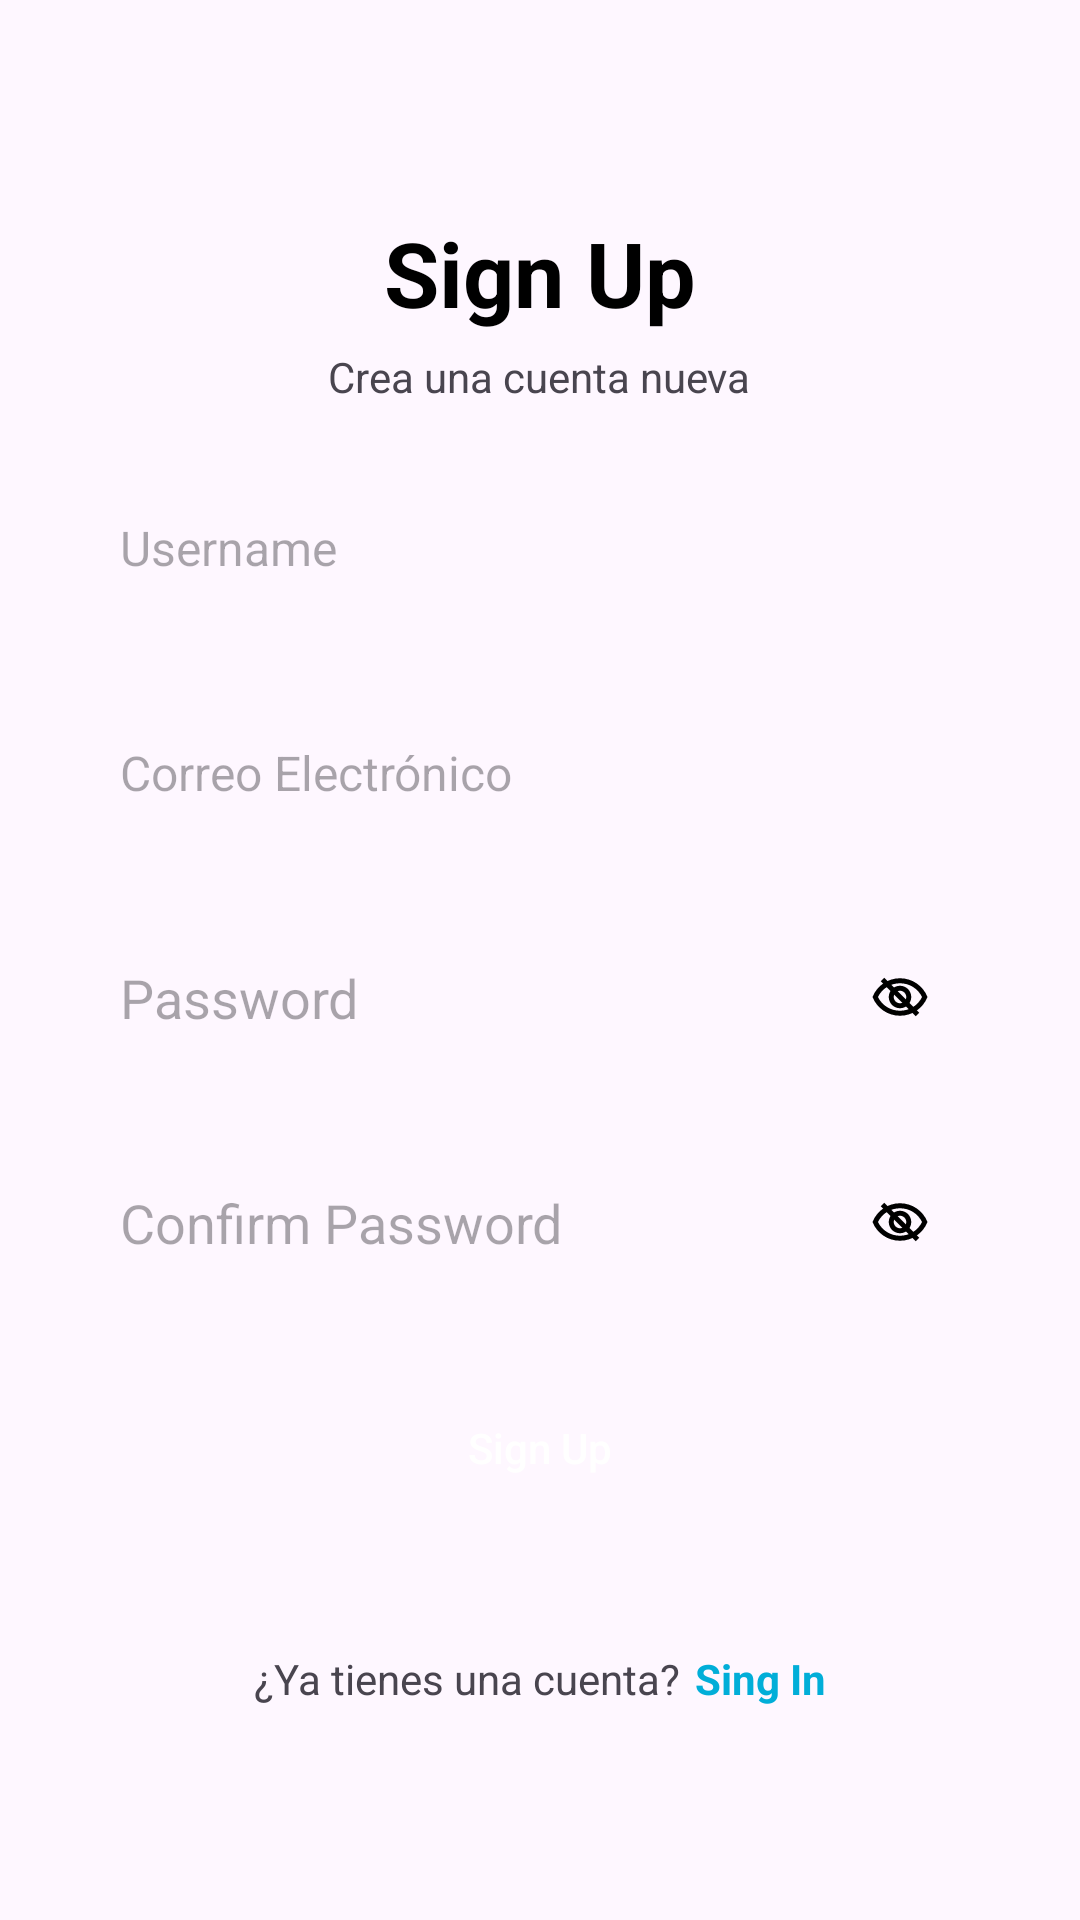

Where to tap for icons on this 1080px×1920px app screen, as [x,y]:
hide eye: [900,997], [900,1222]
